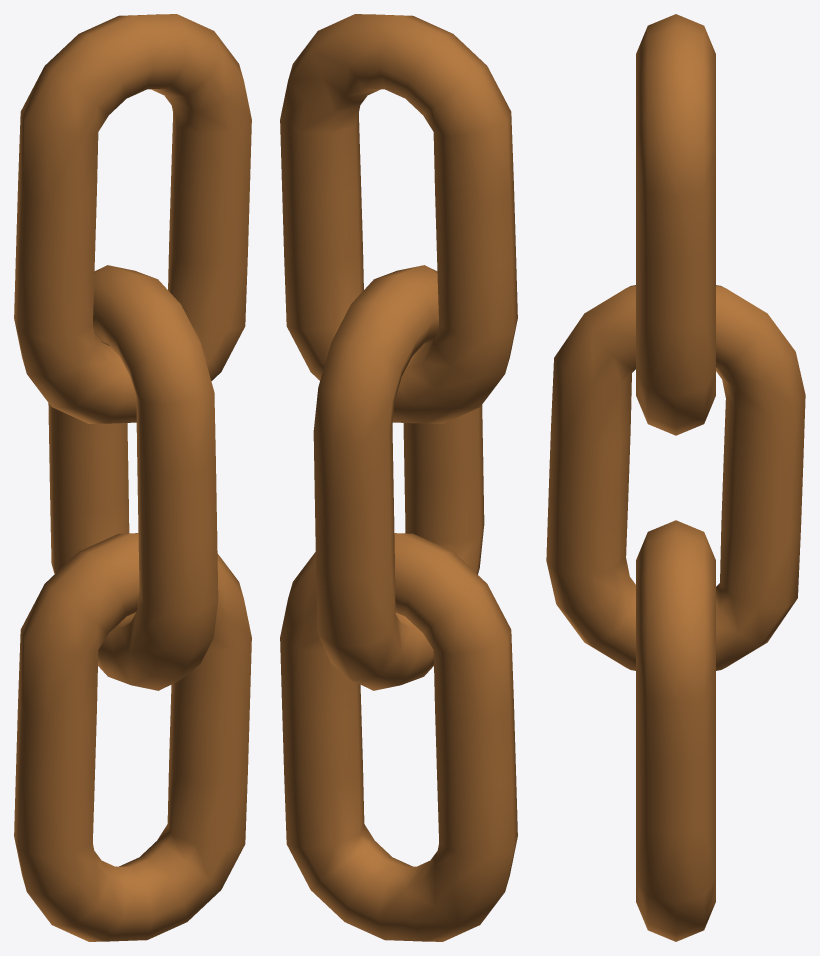
Rendered from K_ChainLink.fbx.
The picture shows the model from 3 angles, left to right: view 1: azimuth 30°, elevation 25°; view 2: azimuth 150°, elevation 25°; view 3: azimuth 270°, elevation 25°; orthographic projection. The views are drawn at different scales.
Visible parts, largest first — view 1: K_ChainLink; view 2: K_ChainLink; view 3: K_ChainLink.
Boxes of the visible parts, x1=… form: K_ChainLink: x1=14, y1=14, x2=251, y2=941; K_ChainLink: x1=280, y1=14, x2=517, y2=941; K_ChainLink: x1=546, y1=14, x2=805, y2=941.
Bounding box in the file's own units: 0.13 × 0.5 × 0.13.
